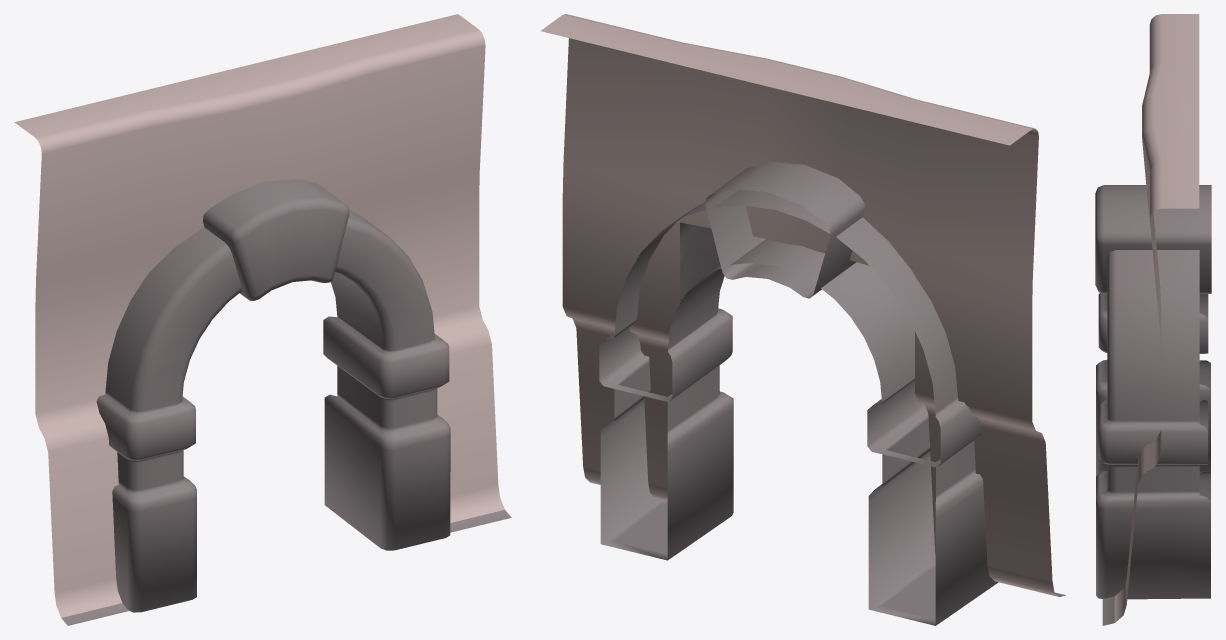
The model's file is 1_Door.glb.
The picture shows the model from 3 angles, left to right: view 1: azimuth 30°, elevation 25°; view 2: azimuth 150°, elevation 25°; view 3: azimuth 270°, elevation 25°; orthographic projection. The views are drawn at different scales.
Visible parts, largest first — view 1: 1_Door; view 2: 1_Door; view 3: 1_Door.
Boxes of the visible parts, box(x1,y1,x2,y2) form: 1_Door: box(14, 14, 511, 625); 1_Door: box(541, 14, 1065, 625); 1_Door: box(1095, 14, 1211, 625).
Size of the model in its own units: 4 by 4 by 1.01.
